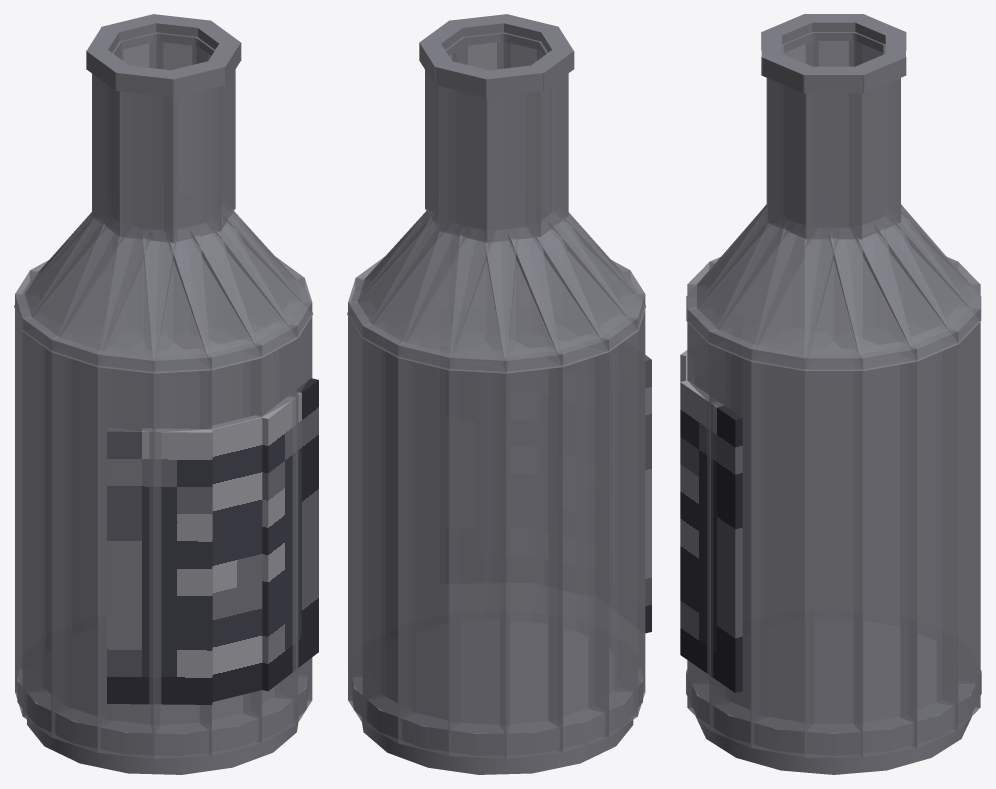
File: CMU3DDrinkBottleWhiskeyDrinksExtraCloudOpenStudy.glb
3 views of the same model, side by side, from view 1: azimuth 30°, elevation 25°; view 2: azimuth 150°, elevation 25°; view 3: azimuth 270°, elevation 25° (orthographic).
Parts seen in each view (by area): view 1: source front label tangent 0, continuous hollow body wall 09, continuous hollow body wall 08, source front label tangent 2, source front label tangent 1, raised lower welt, continuous hollow body wall 10, continuous hollow body wall 07, continuous hollow body wall 11, hollow bottle neck 06, smooth tapered shoulder sector 12, smooth tapered shoulder sector 9 (+29 smaller); view 2: continuous hollow body wall 06, continuous hollow body wall 04, continuous hollow body wall 05, continuous hollow body wall 07, raised lower welt, continuous hollow body wall 03, continuous hollow body wall 08, continuous hollow body wall 02, continuous hollow body wall 09, hollow bottle neck 04, smooth tapered shoulder sector 4, smooth tapered shoulder sector 7 (+27 smaller); view 3: continuous hollow body wall 01, continuous hollow body wall 15, continuous hollow body wall 00, continuous hollow body wall 02, raised lower welt, source front label tangent 2, continuous hollow body wall 03, continuous hollow body wall 14, continuous hollow body wall 04, smooth tapered shoulder sector 15, smooth tapered shoulder sector 1, hollow bottle neck 01 (+27 smaller).
Boxes of the visible parts, box(x1,y1,x2,y2) form: source front label tangent 0: box(107, 428, 212, 704); continuous hollow body wall 09: box(51, 335, 111, 752); continuous hollow body wall 08: box(22, 316, 71, 737); source front label tangent 2: box(262, 378, 318, 691); source front label tangent 1: box(207, 415, 262, 701); raised lower welt: box(17, 629, 307, 755); continuous hollow body wall 10: box(97, 346, 159, 758); continuous hollow body wall 07: box(15, 293, 45, 716); continuous hollow body wall 11: box(151, 349, 211, 758); hollow bottle neck 06: box(119, 91, 177, 242); smooth tapered shoulder sector 12: box(167, 223, 262, 370); smooth tapered shoulder sector 9: box(51, 217, 152, 366); continuous hollow body wall 06: box(500, 346, 562, 758); continuous hollow body wall 04: box(398, 339, 460, 755); continuous hollow body wall 05: box(448, 349, 509, 758); continuous hollow body wall 07: box(548, 335, 608, 752); raised lower welt: box(352, 620, 642, 755); continuous hollow body wall 03: box(362, 323, 416, 743); continuous hollow body wall 08: box(589, 316, 637, 737); continuous hollow body wall 02: box(348, 301, 384, 724); continuous hollow body wall 09: box(615, 293, 645, 716); hollow bottle neck 04: box(482, 91, 540, 242); smooth tapered shoulder sector 4: box(398, 223, 493, 369); smooth tapered shoulder sector 7: box(508, 217, 608, 366); continuous hollow body wall 01: box(854, 342, 917, 757); continuous hollow body wall 15: box(750, 342, 813, 757); continuous hollow body wall 00: box(804, 349, 863, 757); continuous hollow body wall 02: box(900, 328, 958, 747); raised lower welt: box(686, 620, 981, 755); source front label tangent 2: box(680, 380, 742, 692); continuous hollow body wall 03: box(937, 307, 980, 730); continuous hollow body wall 14: box(709, 328, 767, 747); continuous hollow body wall 04: box(958, 284, 980, 707); smooth tapered shoulder sector 15: box(750, 221, 838, 370); smooth tapered shoulder sector 1: box(829, 221, 916, 370); hollow bottle neck 01: box(805, 93, 861, 239).
Size of the model in its own units: 0.307 by 0.7695 by 0.313.
6 materials, 3 textured.
